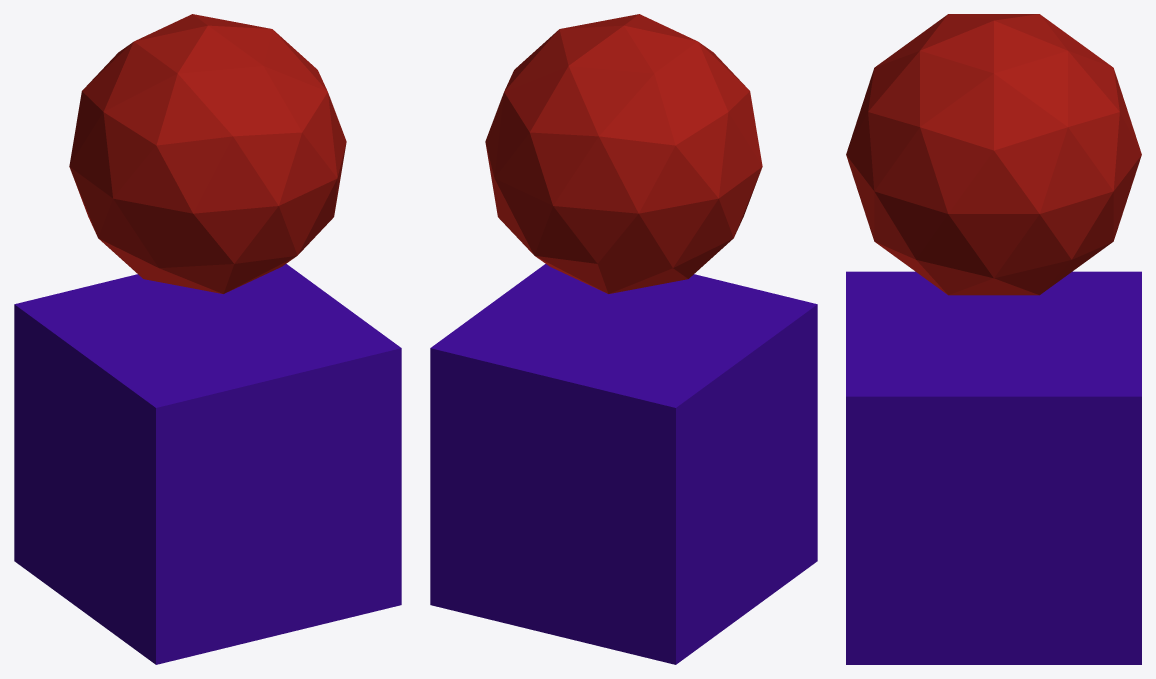
3 views of the same model, side by side, from view 1: azimuth 30°, elevation 25°; view 2: azimuth 150°, elevation 25°; view 3: azimuth 270°, elevation 25° (orthographic). The views are drawn at different scales.
Parts seen in each view (by area): view 1: Cube, Icosphere; view 2: Cube, Icosphere; view 3: Cube, Icosphere.
Part boxes in pixels (x1,y1,x2,y2): Cube: [14, 264, 401, 664]; Icosphere: [69, 14, 346, 293]; Cube: [430, 264, 817, 664]; Icosphere: [485, 14, 762, 293]; Cube: [846, 271, 1141, 664]; Icosphere: [846, 14, 1141, 295].
Bounding box in the file's own units: 2 × 4.34 × 2.
